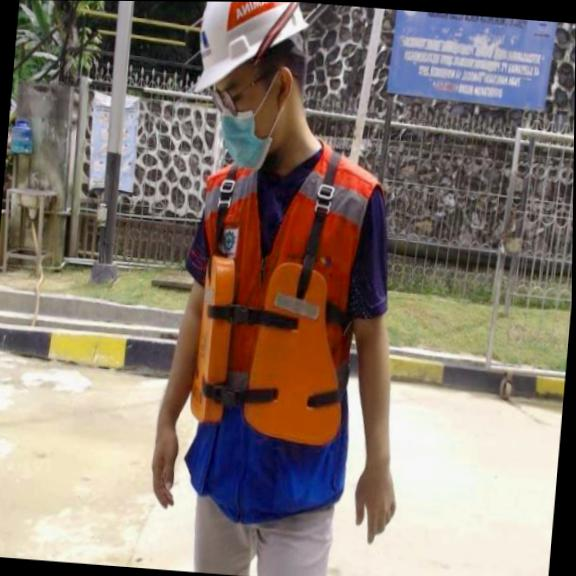safety_vest: (181, 244, 352, 444)
